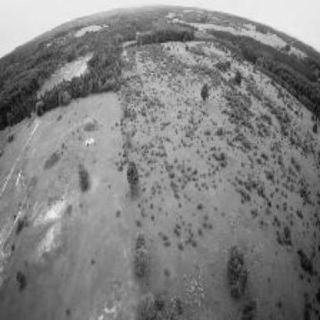other: (33, 175, 99, 253)
